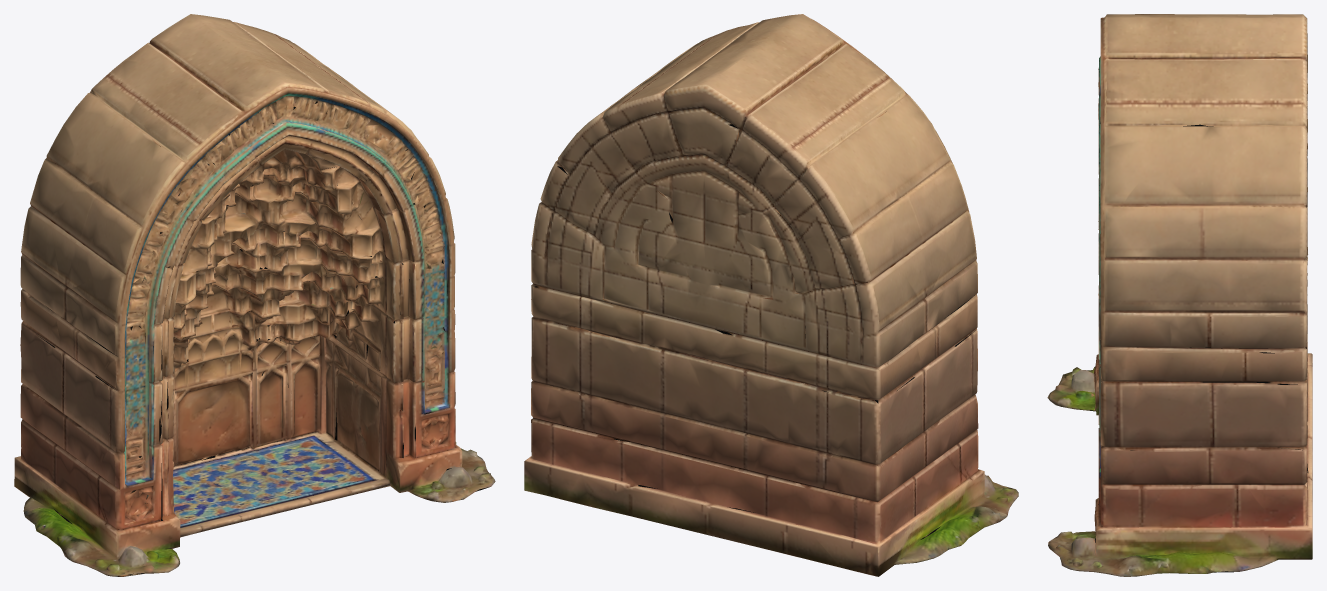
The model's file is Muqarnas_Arch_with_Ca.fbx.
The picture shows the model from 3 angles, left to right: view 1: azimuth 30°, elevation 25°; view 2: azimuth 150°, elevation 25°; view 3: azimuth 270°, elevation 25°; orthographic projection. The views are drawn at different scales.
Visible parts, largest first — view 1: Muqarnas_Arch_with_Ca_LOD0; view 2: Muqarnas_Arch_with_Ca_LOD0; view 3: Muqarnas_Arch_with_Ca_LOD0.
Boxes of the visible parts, left/top/right/bottom form: Muqarnas_Arch_with_Ca_LOD0: left=14, top=14, right=495, bottom=576; Muqarnas_Arch_with_Ca_LOD0: left=524, top=14, right=1018, bottom=576; Muqarnas_Arch_with_Ca_LOD0: left=1047, top=14, right=1312, bottom=576.
Size of what is drawn, in the model's own units: 1.9 by 1.9 by 1.01.
1 material, 1 textured.
